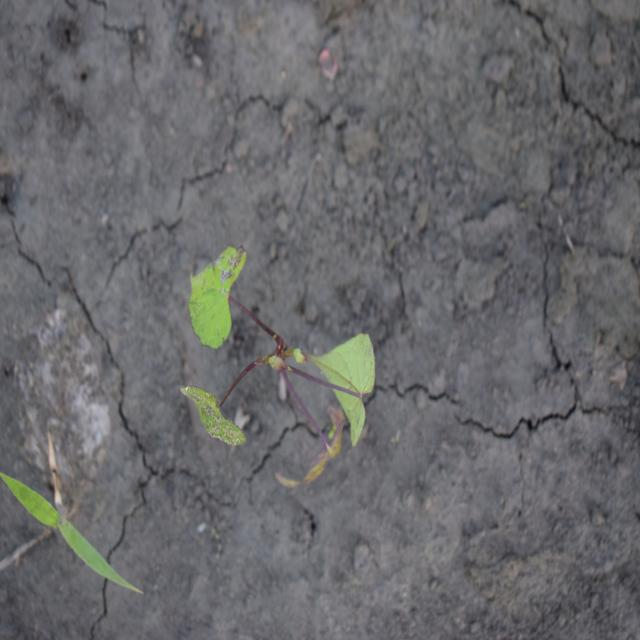MorningGlory: (179, 243, 377, 492)
